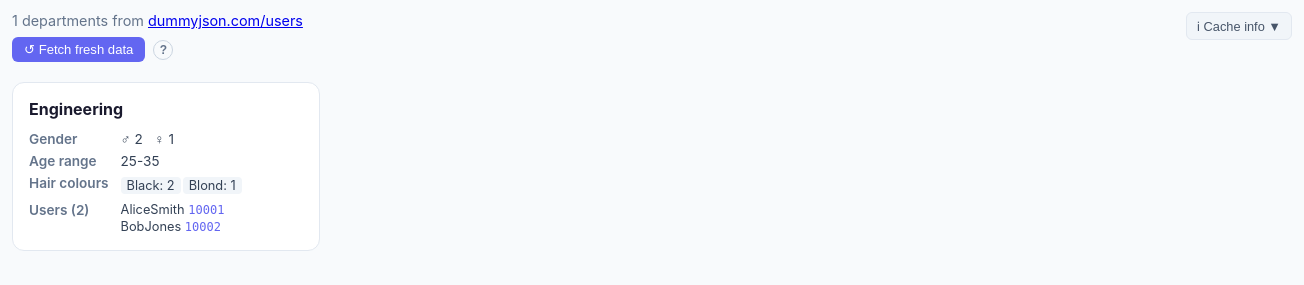
Test: UsersPage › toggles cache info panel open and closed
The width and height of the screenshot is (1304, 285).
Check: the heading "Engineering" is shown, box [29, 99, 123, 119]
Click the button "ℹ Cache info ▼".
click(1239, 26)  # box [1186, 12, 1292, 40]
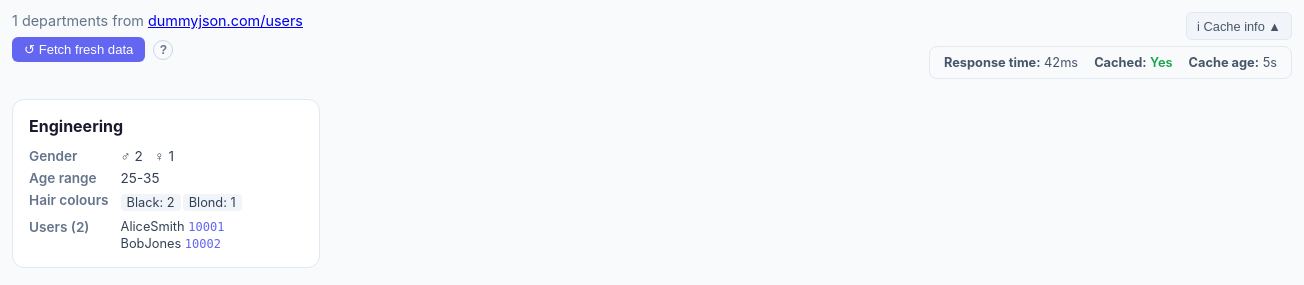
Check: the text "Response time:" is shown, box [944, 55, 1040, 70]
Click the button "ℹ Cache info ▲".
click(1239, 26)  # box [1186, 12, 1292, 40]
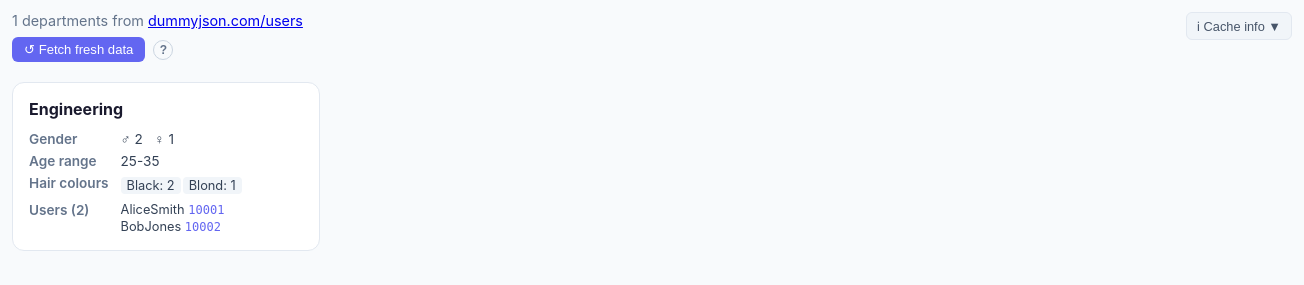
Check: the text "Response time" is gone
